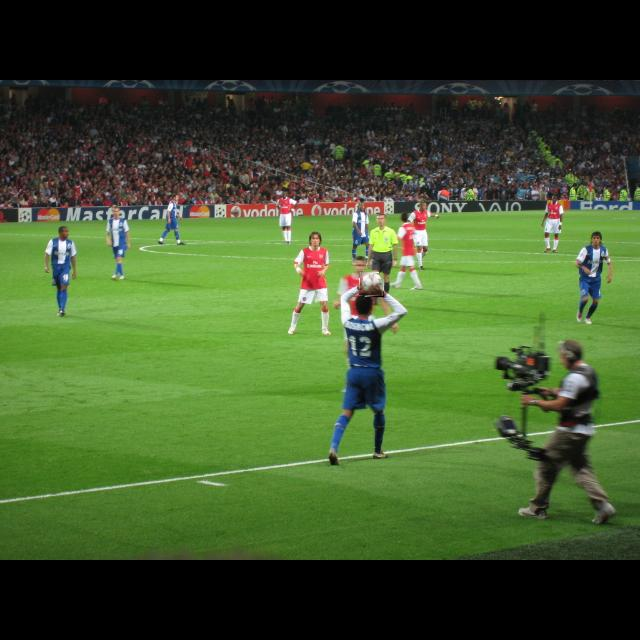Football: (360, 273, 384, 297)
